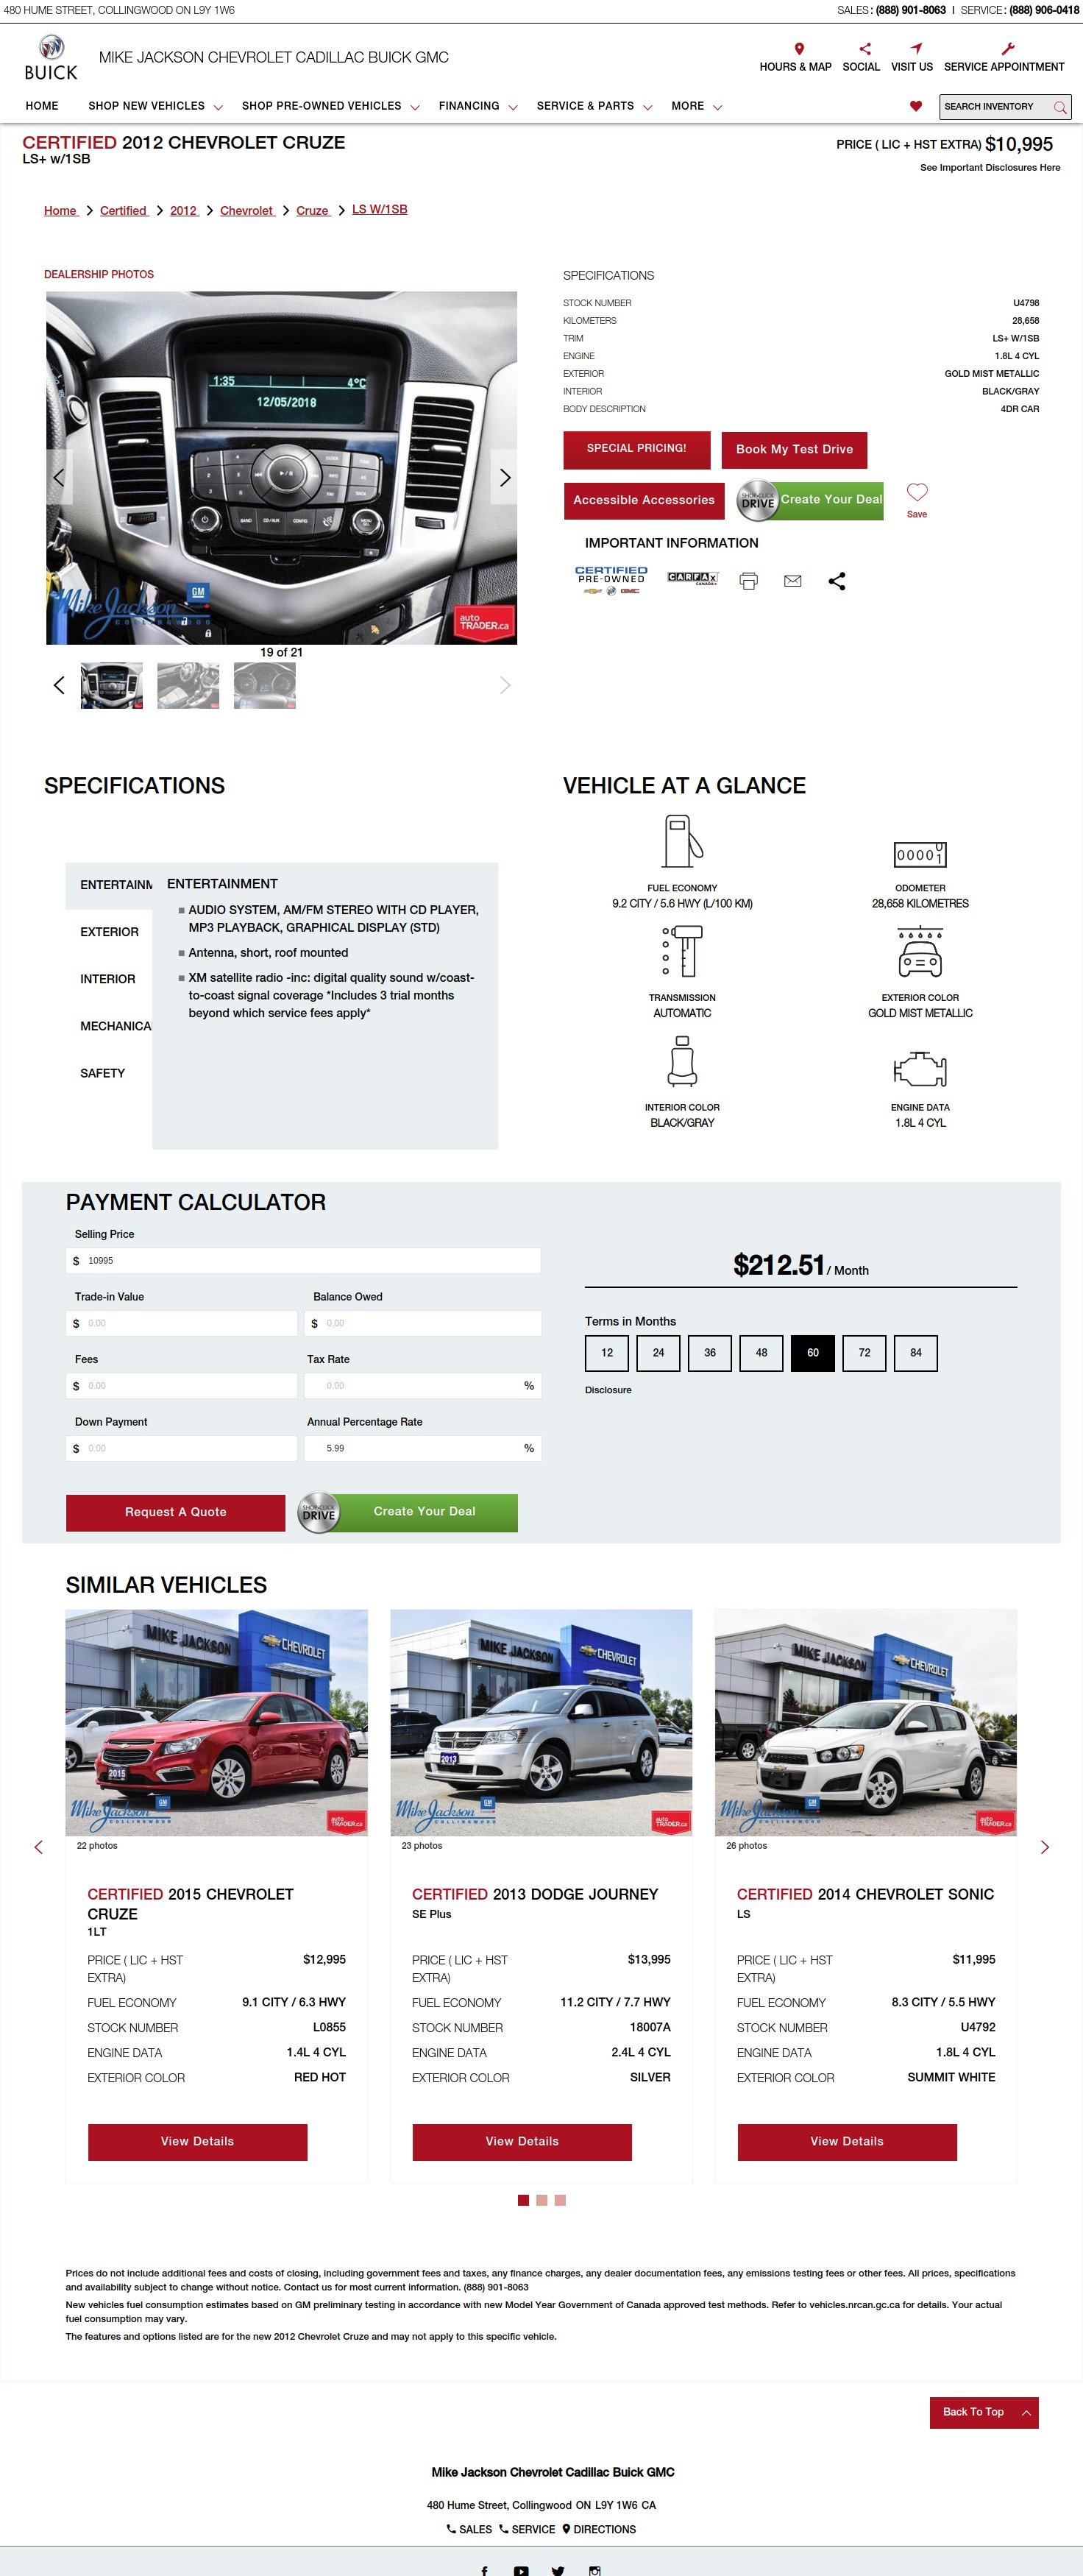car: (490, 448, 523, 508)
